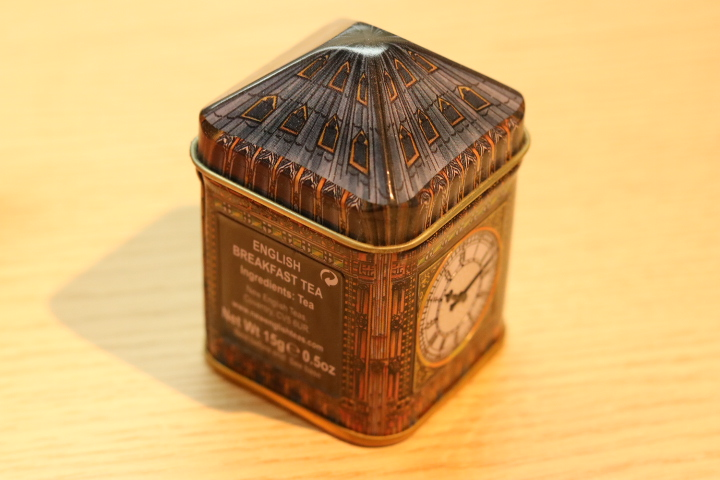Big Ben: (178, 10, 558, 462)
